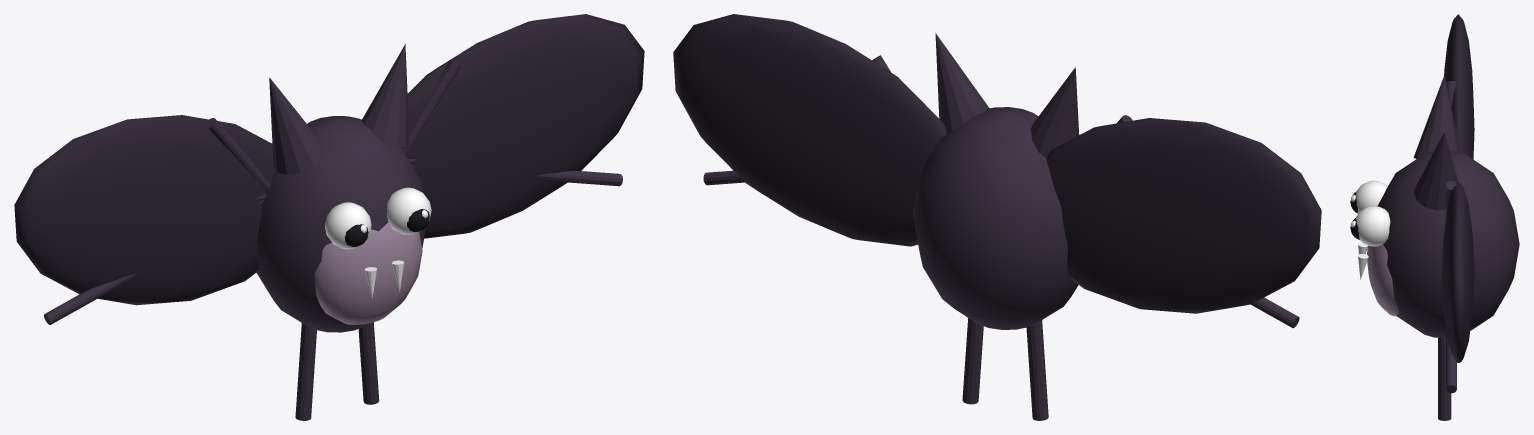
The picture shows the model from 3 angles, left to right: view 1: azimuth 30°, elevation 25°; view 2: azimuth 150°, elevation 25°; view 3: azimuth 270°, elevation 25°; orthographic projection. The views are drawn at different scales.
Parts seen in each view (by area): view 1: Bat; view 2: Bat; view 3: Bat.
Part boxes in pixels (bbox=[...]): Bat: bbox=[14, 14, 644, 420]; Bat: bbox=[673, 14, 1321, 420]; Bat: bbox=[1350, 14, 1519, 420].
Bounding box in the file's own units: 4.63 × 2.45 × 1.25.
1 material, 1 textured.
